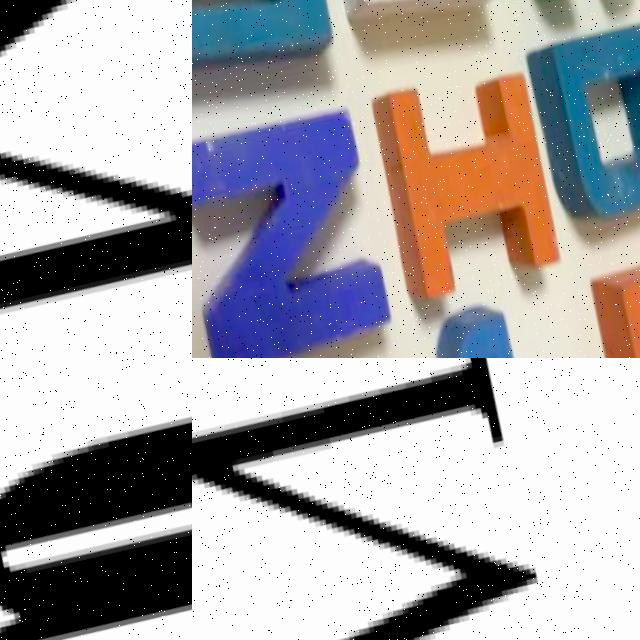D: (528, 5, 640, 230)
G: (0, 358, 192, 640)
I: (362, 59, 587, 312)
M: (0, 0, 192, 358), (192, 0, 362, 109)
N: (192, 88, 423, 358)
W: (192, 358, 640, 640)
